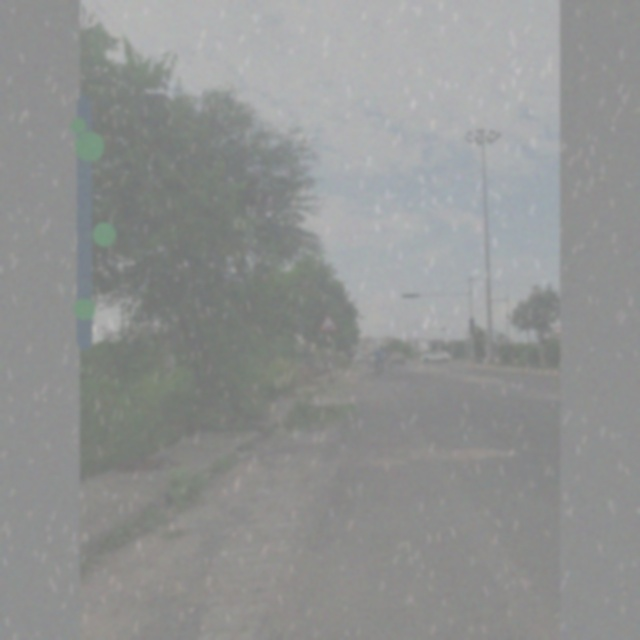Hump_or_Rough_Road: (318, 314, 338, 333)
